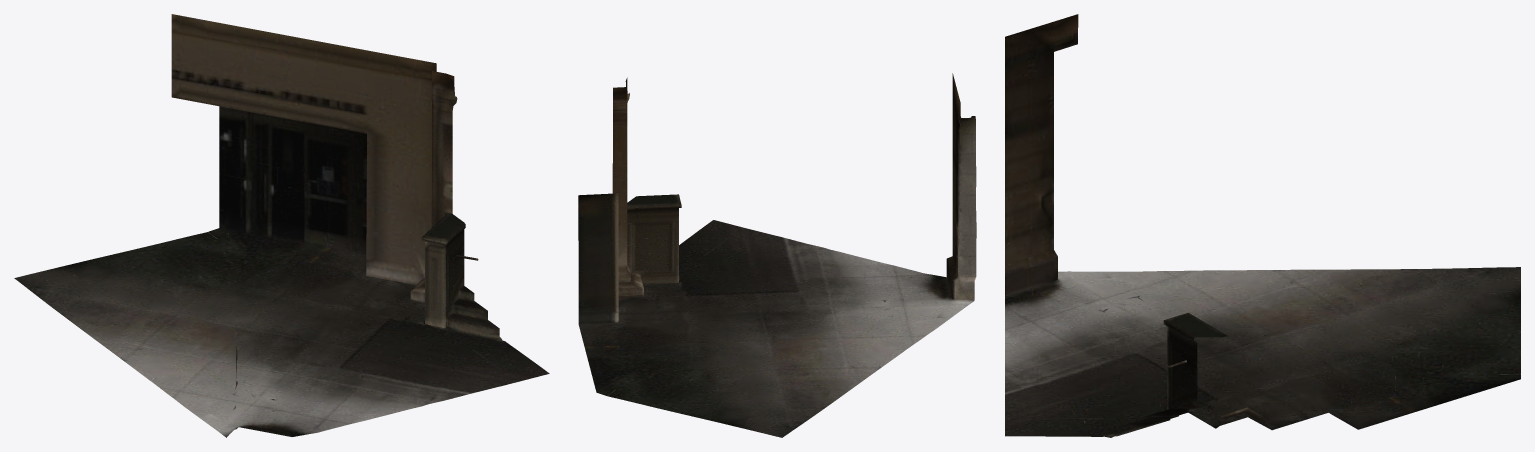
3 renders of one model, left to right at view 1: azimuth 30°, elevation 25°; view 2: azimuth 150°, elevation 25°; view 3: azimuth 270°, elevation 25°, orthographic. The views are drawn at different scales.
Size of the model in its own units: 6.76 by 4.89 by 8.8.
Materials: 1 (1 with a texture image).
